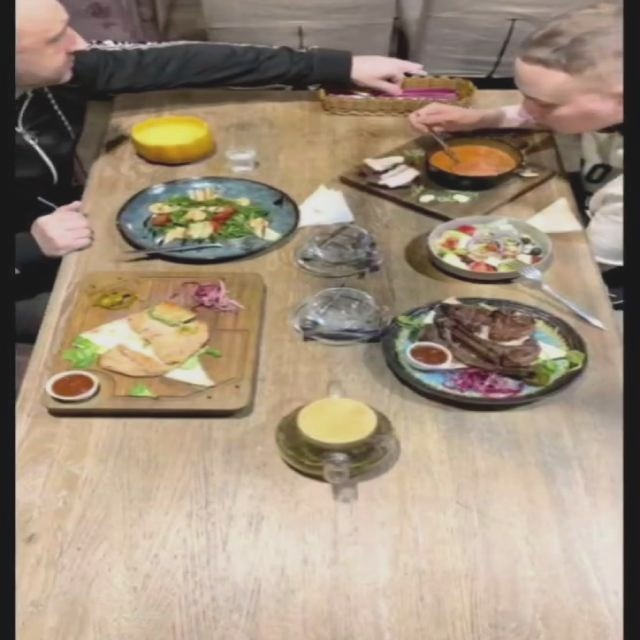meat: (42, 271, 263, 412), (379, 296, 589, 405)
salad: (113, 176, 296, 260), (426, 213, 555, 280)
soup: (339, 128, 561, 220), (129, 116, 214, 164)
tea: (273, 397, 396, 479)
